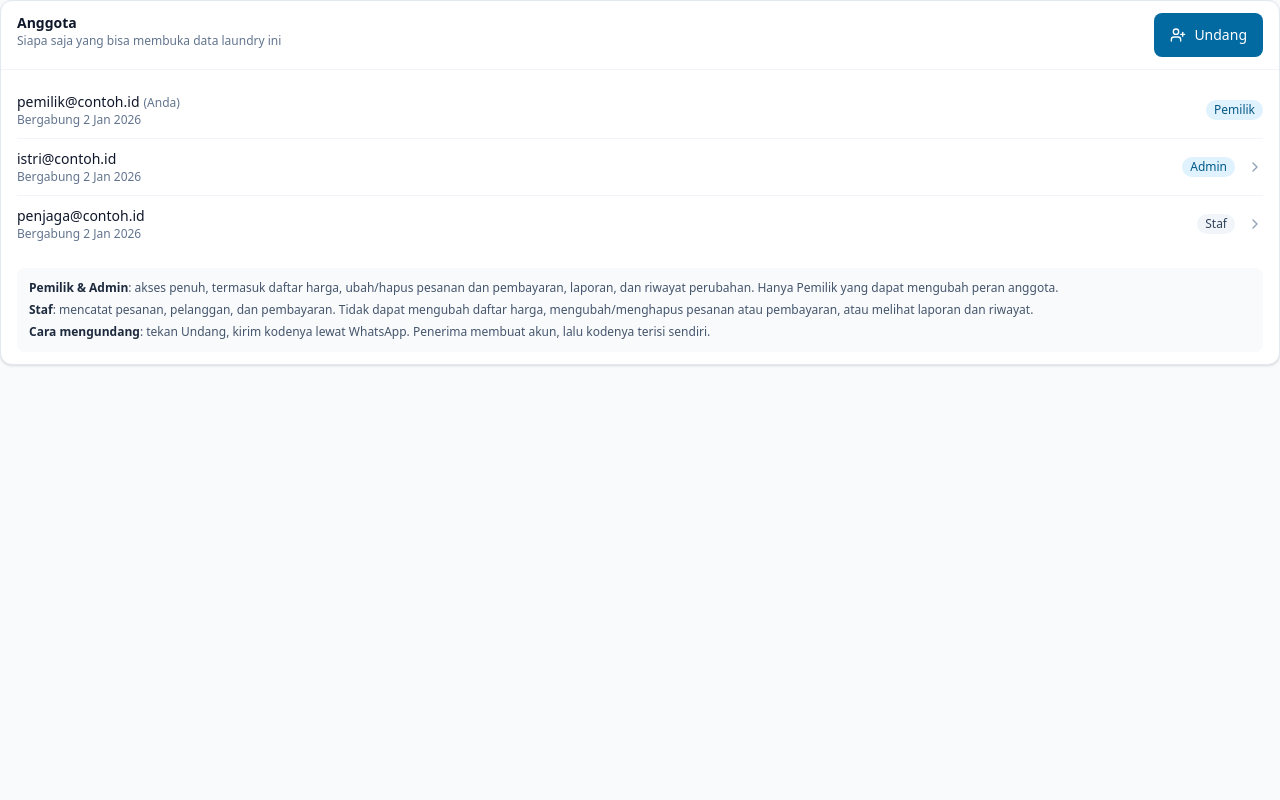
Test: MembersCard › lets the only owner manage others but not change their own role
Check: the text "istri@contoh.id" is shown, box x1=17 y1=149 x2=116 y2=168
Click the button with aria-label "Atur istri@contoh.id" at (67, 158), box x1=9 y1=139 x2=1271 y2=195
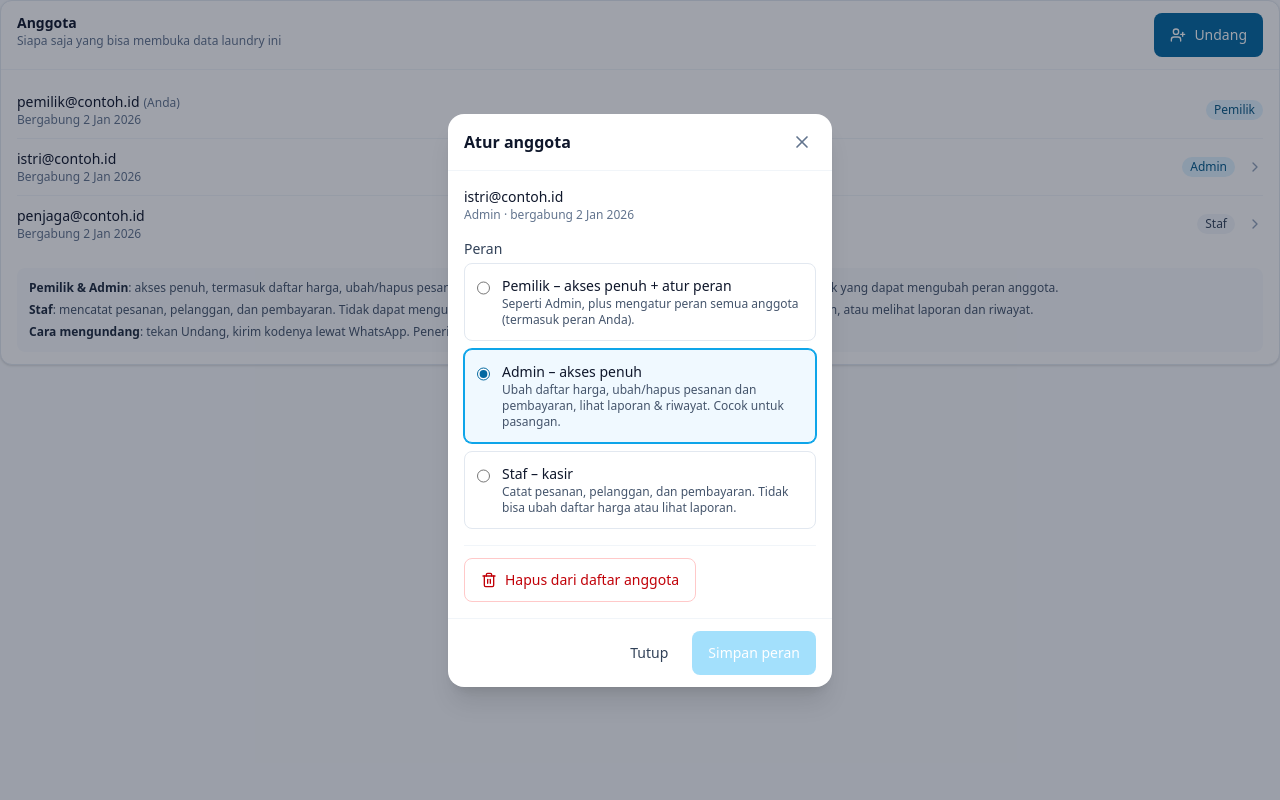
Check: the radio button labelled "Pemilik" is shown, box x1=477 y1=280 x2=490 y2=296
Check: the button "Hapus dari daftar anggota" is shown, box x1=464 y1=558 x2=696 y2=602
